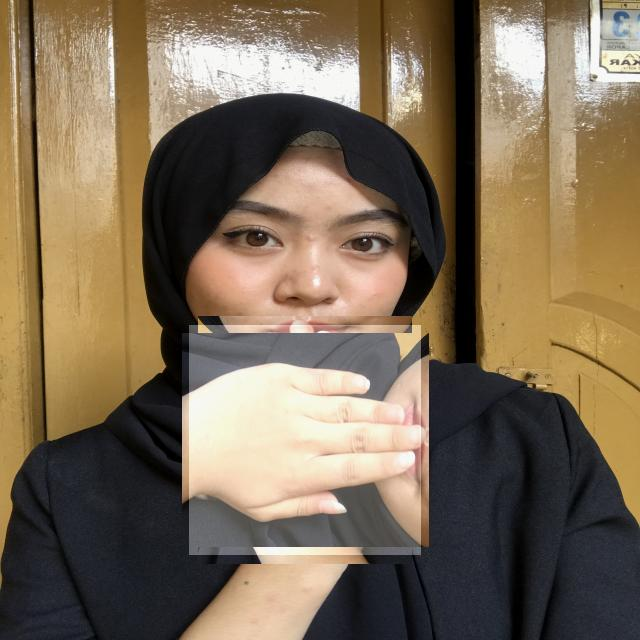ganteng: (189, 325, 421, 555)
